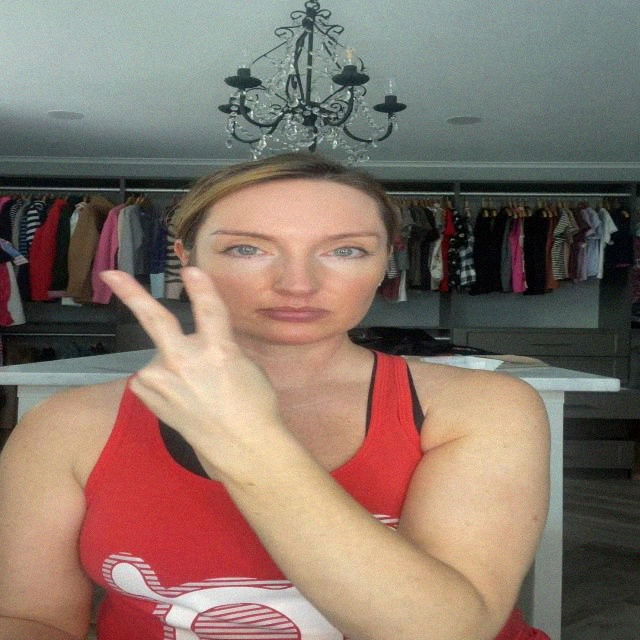Scissors: (92, 264, 271, 444)
